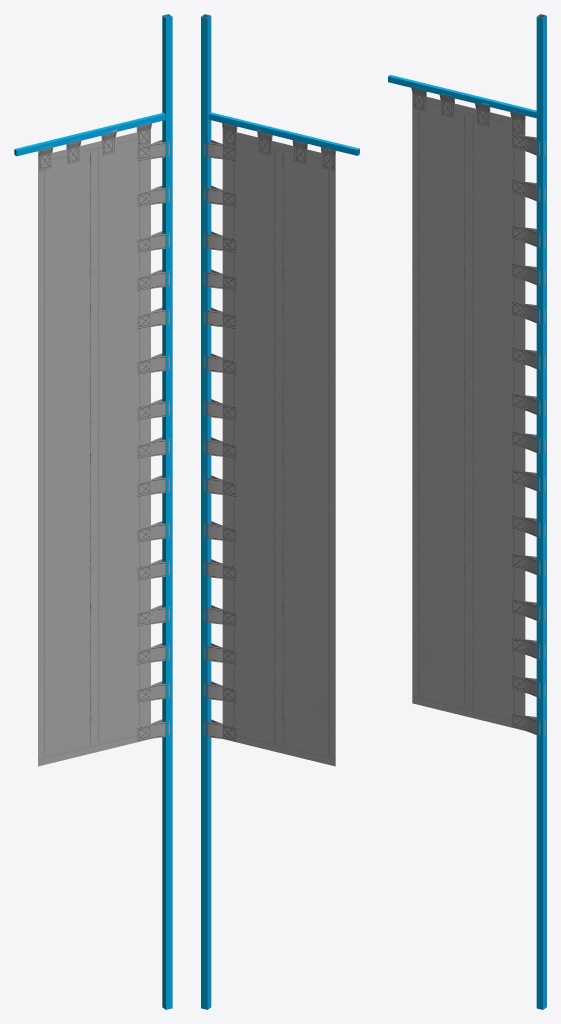
The model's file is JWC_Flag_Nobori_01.fbx.
3 views of the same model, side by side, from view 1: azimuth 30°, elevation 25°; view 2: azimuth 150°, elevation 25°; view 3: azimuth 330°, elevation 25° (orthographic).
Visible parts, largest first — view 1: JWC_Flag_Nobori_01, C_JWC_Flag_Nobori_01, C_JWC_Flag_Nobori_01_001; view 2: JWC_Flag_Nobori_01, C_JWC_Flag_Nobori_01, C_JWC_Flag_Nobori_01_001; view 3: JWC_Flag_Nobori_01, C_JWC_Flag_Nobori_01, C_JWC_Flag_Nobori_01_001.
Part boxes in pixels (x1,y1,x2,y2): JWC_Flag_Nobori_01: (14, 14, 170, 766); C_JWC_Flag_Nobori_01: (162, 14, 172, 1009); C_JWC_Flag_Nobori_01_001: (14, 113, 165, 156); JWC_Flag_Nobori_01: (202, 15, 359, 766); C_JWC_Flag_Nobori_01: (201, 14, 211, 1009); C_JWC_Flag_Nobori_01_001: (208, 112, 359, 155); JWC_Flag_Nobori_01: (411, 14, 545, 736); C_JWC_Flag_Nobori_01: (536, 14, 546, 1009); C_JWC_Flag_Nobori_01_001: (388, 75, 536, 118).
Size of the model in its own units: 1.14 by 6.93 by 0.051.
